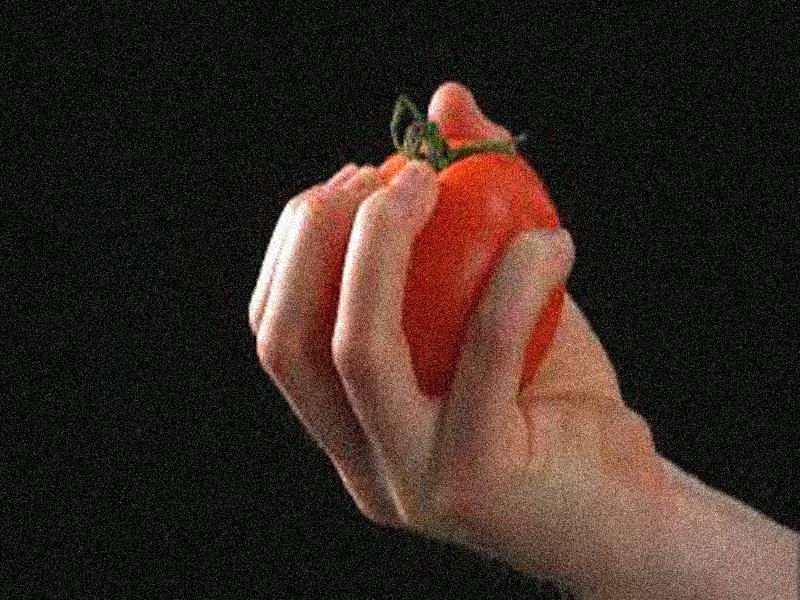Tomato: (375, 150, 565, 404)
